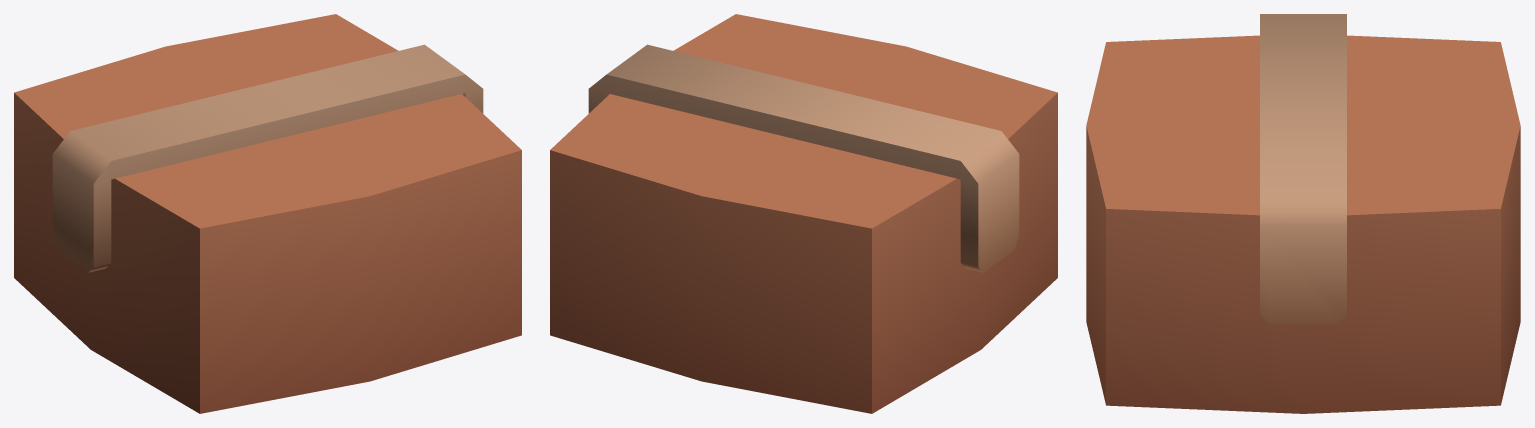
The model's file is box-large.glb.
3 views of the same model, side by side, from view 1: azimuth 30°, elevation 25°; view 2: azimuth 150°, elevation 25°; view 3: azimuth 270°, elevation 25° (orthographic). The views are drawn at different scales.
Visible parts, largest first — view 1: box-large; view 2: box-large; view 3: box-large.
Part boxes in pixels (<box>): box-large: <box>14,14,521,413</box>; box-large: <box>550,14,1057,413</box>; box-large: <box>1086,14,1520,413</box>.
Size of the model in its own units: 1.1 by 0.55 by 1.
